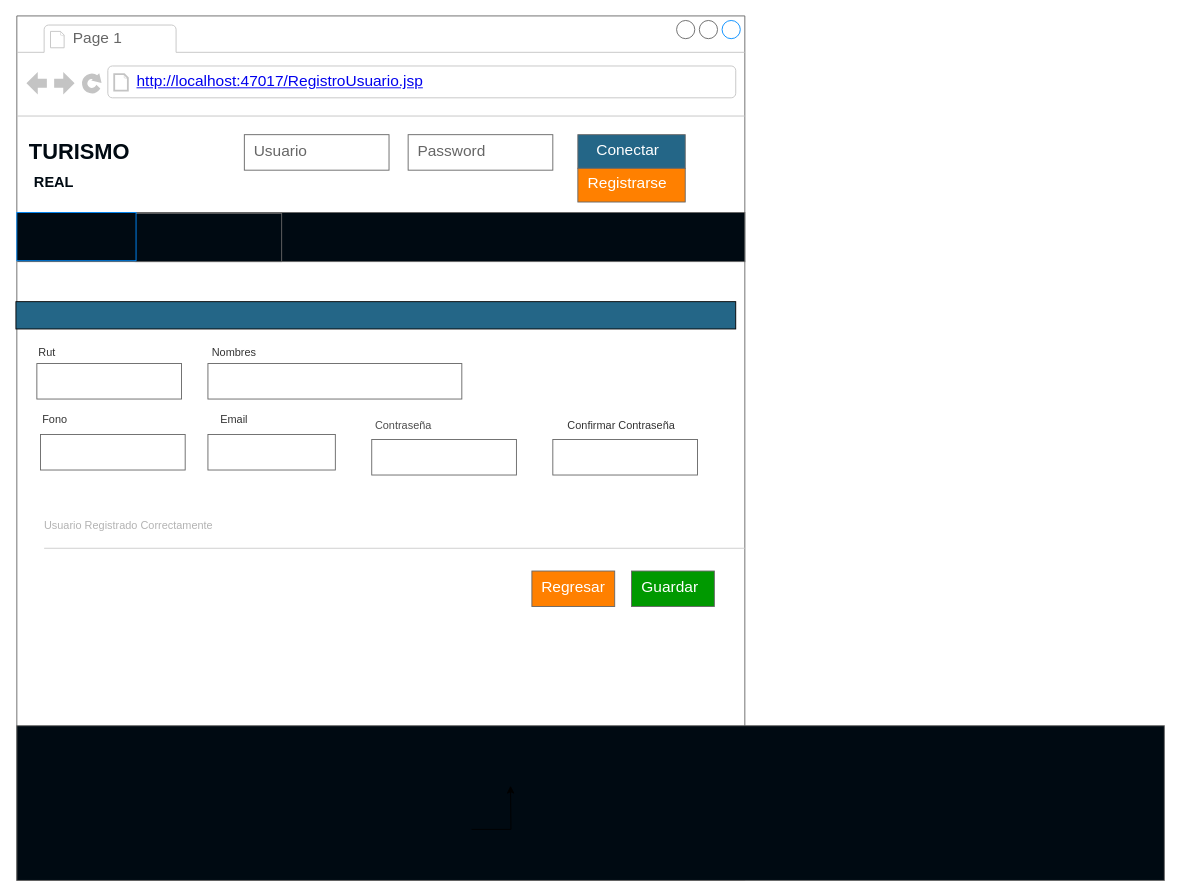
Some shapes in this 1180 by 896 pixel diagram are drawn without their labels. Each missing label, with the centre of its shape:
"Buscar Reservas" goes at point 208,237.
"CONECTA CON NOSOTROS" goes at point 590,802.
"Home" goes at point 76,236.
"Nueva Cuenta" goes at point 375,315.
